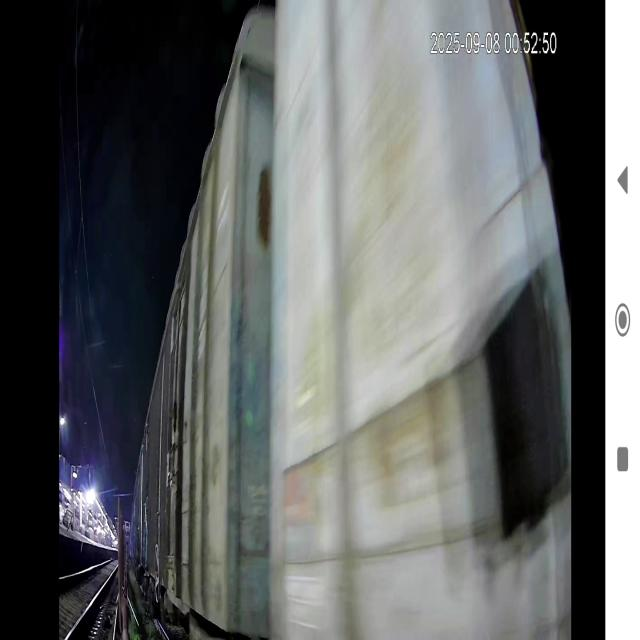joint: (227, 1, 323, 639)
